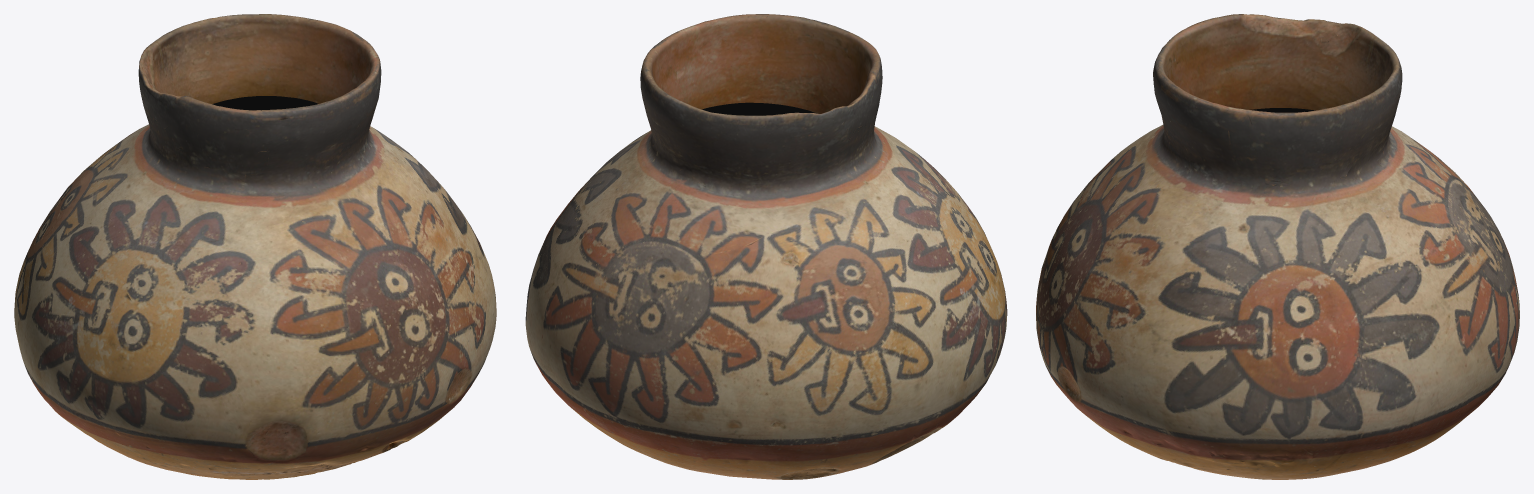
File: painted_vessel.glb
The picture shows the model from 3 angles, left to right: view 1: azimuth 30°, elevation 25°; view 2: azimuth 150°, elevation 25°; view 3: azimuth 270°, elevation 25°; orthographic projection.
Parts seen in each view (by area): view 1: Hn54_bemaltes_Gefaess_mit_Sonnen_hp_2; view 2: Hn54_bemaltes_Gefaess_mit_Sonnen_hp_2; view 3: Hn54_bemaltes_Gefaess_mit_Sonnen_hp_2.
Boxes of the visible parts, box(x1,y1,x2,y2) form: Hn54_bemaltes_Gefaess_mit_Sonnen_hp_2: box(14, 14, 496, 479); Hn54_bemaltes_Gefaess_mit_Sonnen_hp_2: box(525, 14, 1007, 479); Hn54_bemaltes_Gefaess_mit_Sonnen_hp_2: box(1036, 14, 1519, 479).
Size of the model in its own units: 0.1385 by 0.1221 by 0.1376.
2 materials, 1 textured.
